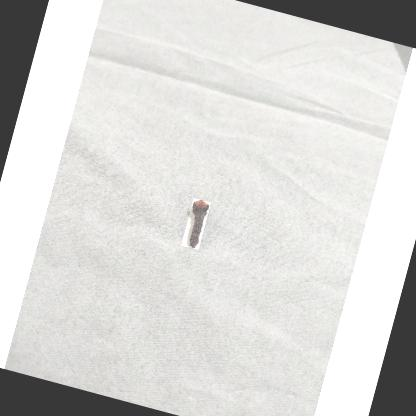sedang: (188, 200, 209, 249)
